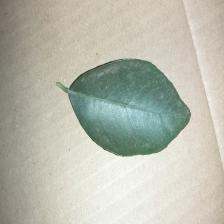healthy: (74, 60, 183, 168)
